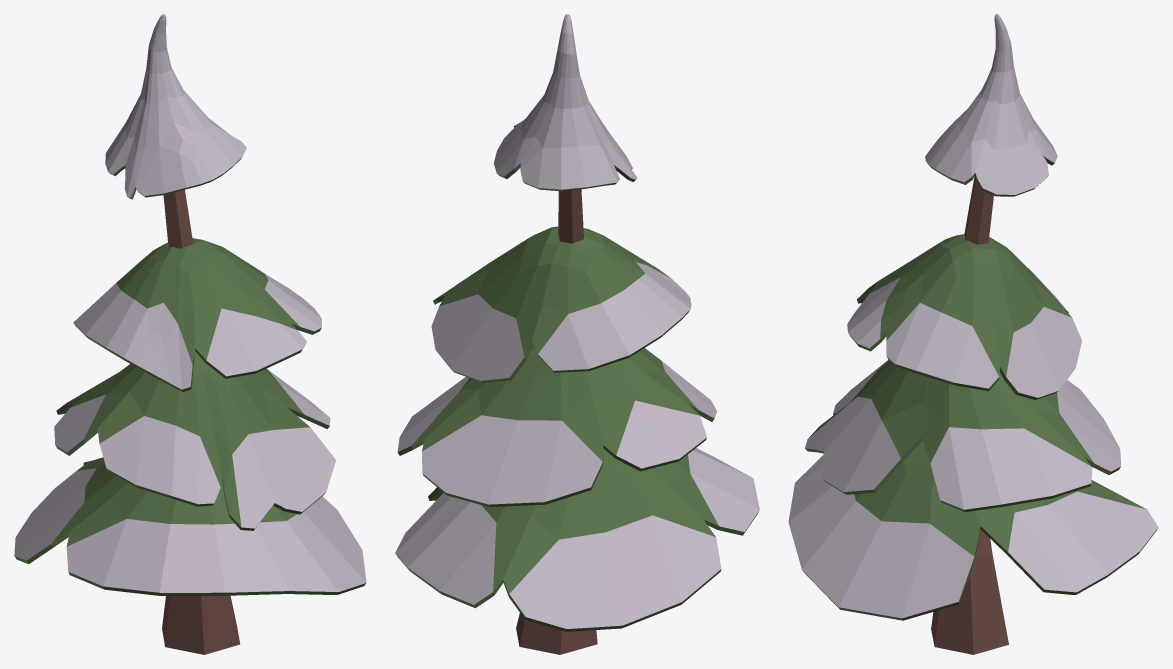
The model's file is PineTree_Snow_2.glb.
3 renders of one model, left to right at view 1: azimuth 30°, elevation 25°; view 2: azimuth 150°, elevation 25°; view 3: azimuth 270°, elevation 25°, orthographic. The views are drawn at different scales.
Parts seen in each view (by area): view 1: PineTree_Snow_2; view 2: PineTree_Snow_2; view 3: PineTree_Snow_2.
Part boxes in pixels (<box>): PineTree_Snow_2: <box>14,14,366,654</box>; PineTree_Snow_2: <box>395,14,759,654</box>; PineTree_Snow_2: <box>788,14,1158,654</box>.
Size of the model in its own units: 1.8 by 3.56 by 1.96.
